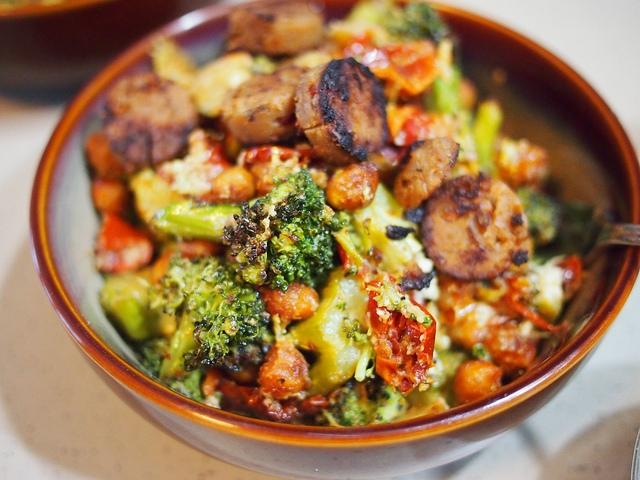broccoli: (151, 172, 348, 294), (146, 252, 272, 388), (99, 270, 162, 344), (326, 376, 395, 426), (516, 184, 566, 248), (376, 4, 448, 44), (471, 100, 503, 166), (422, 64, 460, 114), (162, 366, 210, 402), (467, 112, 475, 130)
